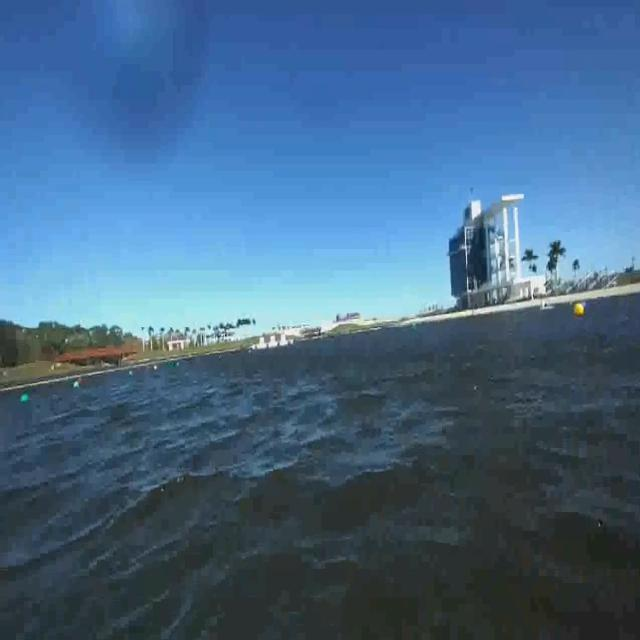yellow-buoy: (573, 302, 584, 320)
